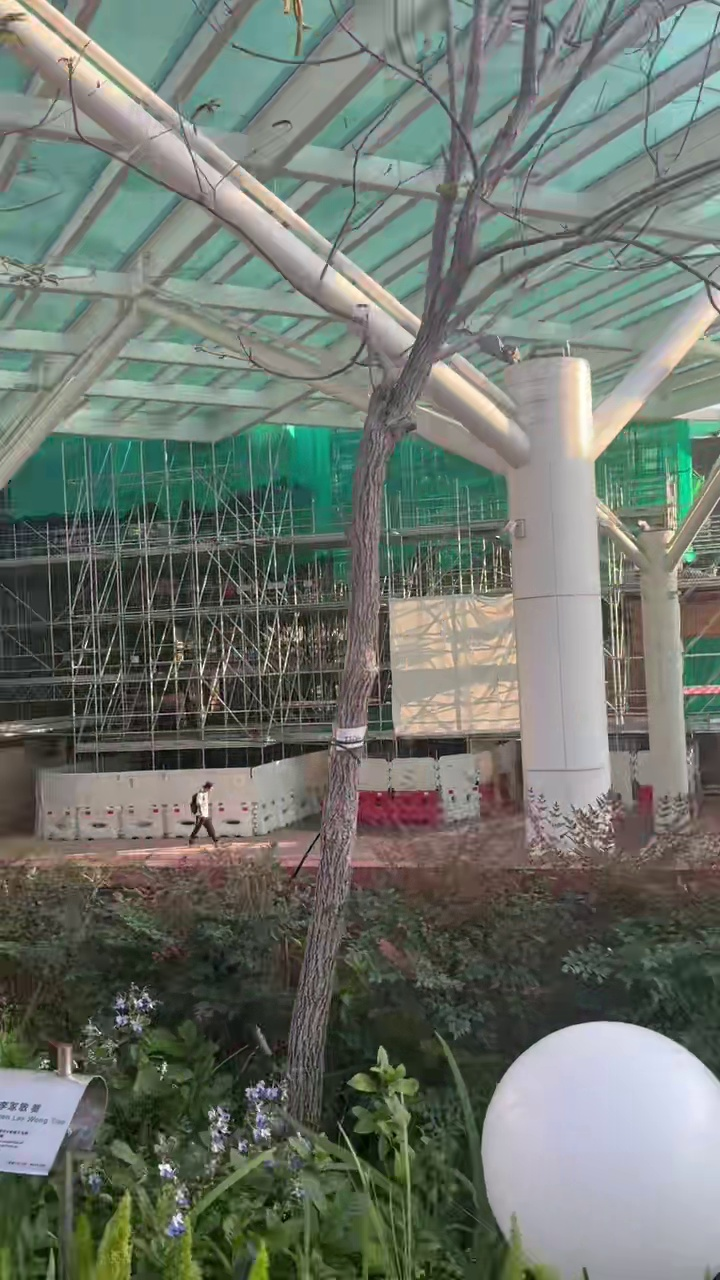Tabebuia chrysantha: (287, 0, 649, 1123)
